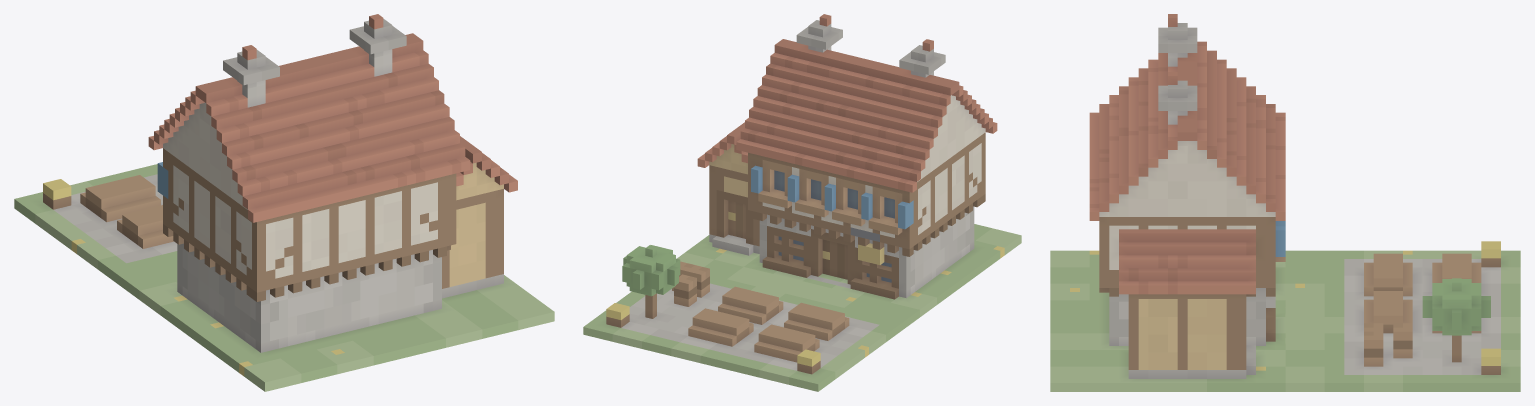
File: tavern.glb
3 renders of one model, left to right at view 1: azimuth 30°, elevation 25°; view 2: azimuth 150°, elevation 25°; view 3: azimuth 270°, elevation 25°, orthographic. The views are drawn at different scales.
Visible parts, largest first — view 1: tavern; view 2: tavern; view 3: tavern.
Boxes of the visible parts, box(x1,y1,x2,y2) form: tavern: box(14, 14, 554, 391); tavern: box(583, 14, 1021, 391); tavern: box(1050, 14, 1520, 391).
Bounding box in the file's own units: 4 × 3.75 × 6.
